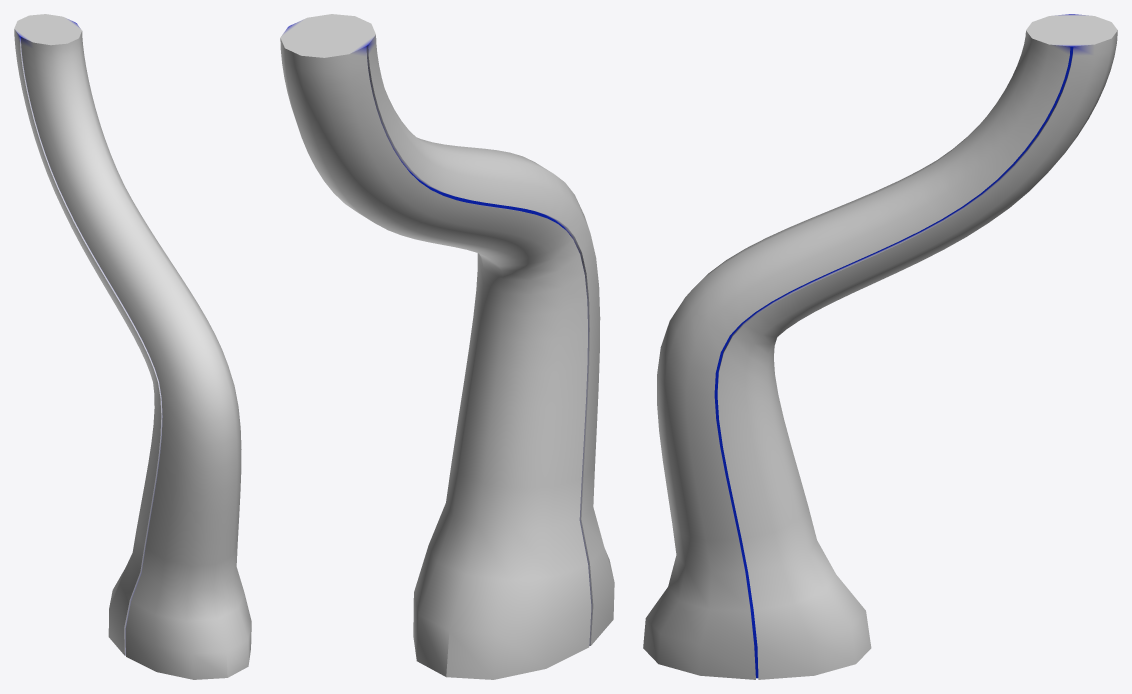
File: Colonne.fbx
3 views of the same model, side by side, from view 1: azimuth 30°, elevation 25°; view 2: azimuth 150°, elevation 25°; view 3: azimuth 270°, elevation 25° (orthographic). The views are drawn at different scales.
Visible parts, largest first — view 1: BezierCurve.001; view 2: BezierCurve.001; view 3: BezierCurve.001.
Part boxes in pixels (bbox=[...]): BezierCurve.001: bbox=[14, 14, 251, 679]; BezierCurve.001: bbox=[280, 14, 614, 679]; BezierCurve.001: bbox=[643, 14, 1117, 679].
Size of the model in its own units: 103 by 456 by 318.
